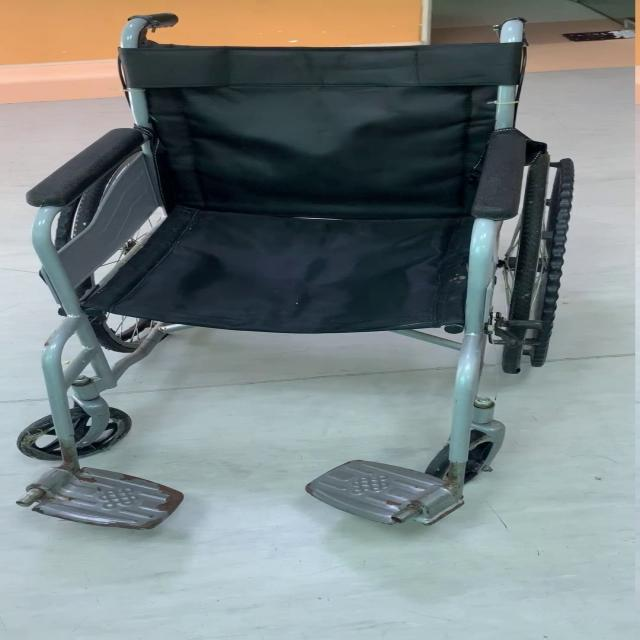wheelchair: (4, 0, 602, 544)
